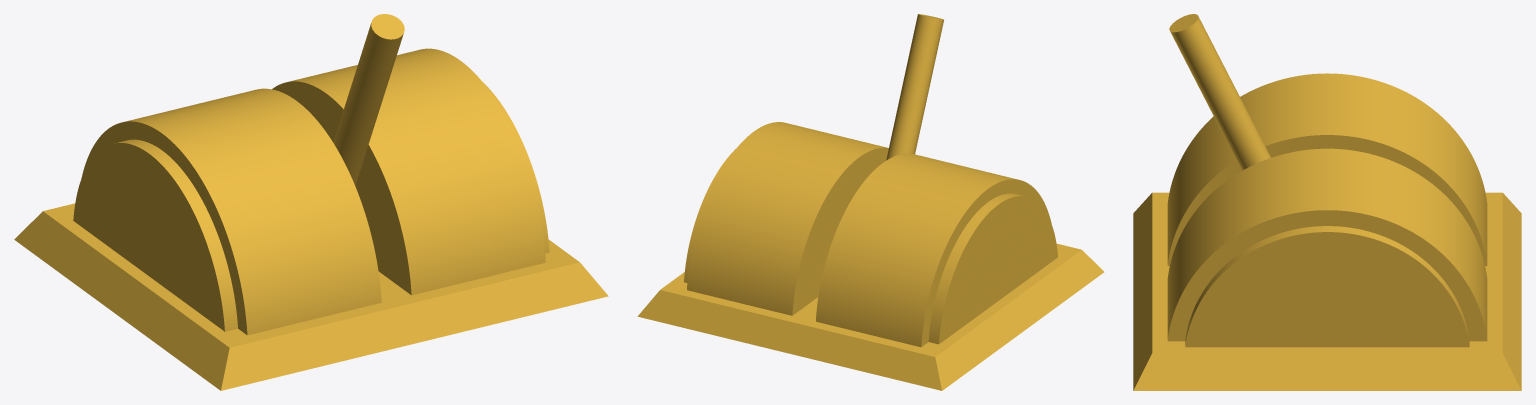
File: Lever.fbx
3 views of the same model, side by side, from view 1: azimuth 30°, elevation 25°; view 2: azimuth 150°, elevation 25°; view 3: azimuth 270°, elevation 25° (orthographic). The views are drawn at different scales.
Visible parts, largest first — view 1: Cylinder, Cube, Cylinder.001; view 2: Cylinder, Cube, Cylinder.001; view 3: Cylinder, Cube, Cylinder.001.
Part boxes in pixels (box(x1,y1,x2,y2)): Cylinder: box(73, 48, 549, 335); Cube: box(14, 203, 608, 390); Cylinder.001: box(333, 14, 404, 185); Cylinder: box(684, 122, 1057, 347); Cube: box(637, 243, 1104, 390); Cylinder.001: box(886, 14, 943, 160); Cylinder: box(1167, 73, 1487, 347); Cube: box(1133, 192, 1521, 390); Cylinder.001: box(1169, 14, 1270, 170).
Size of the model in its own units: 260 by 195 by 240.
